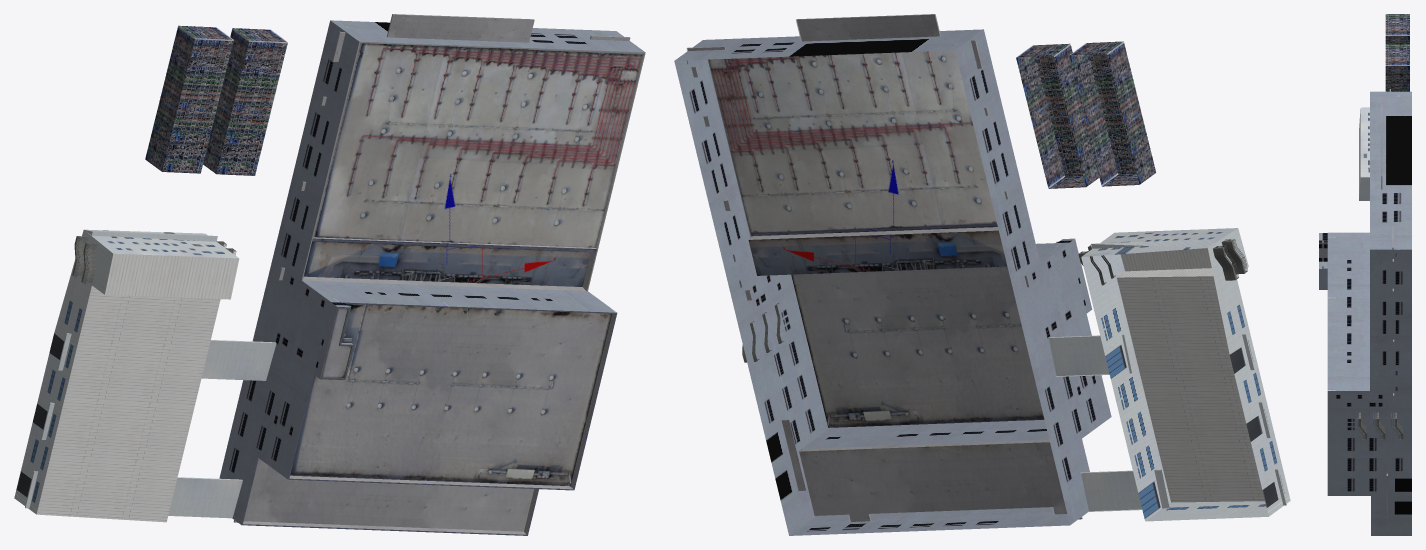
The model's file is building_p5_05.fbx.
3 views of the same model, side by side, from view 1: azimuth 30°, elevation 25°; view 2: azimuth 150°, elevation 25°; view 3: azimuth 270°, elevation 25° (orthographic). The views are drawn at different scales.
Parts seen in each view (by area): view 1: Building_P5_05; view 2: Building_P5_05; view 3: Building_P5_05.
Part boxes in pixels (<box>): Building_P5_05: <box>14,14,645,535</box>; Building_P5_05: <box>674,14,1290,535</box>; Building_P5_05: <box>1319,14,1411,535</box>.
Size of the model in its own units: 14125 by 12623 by 2602.
